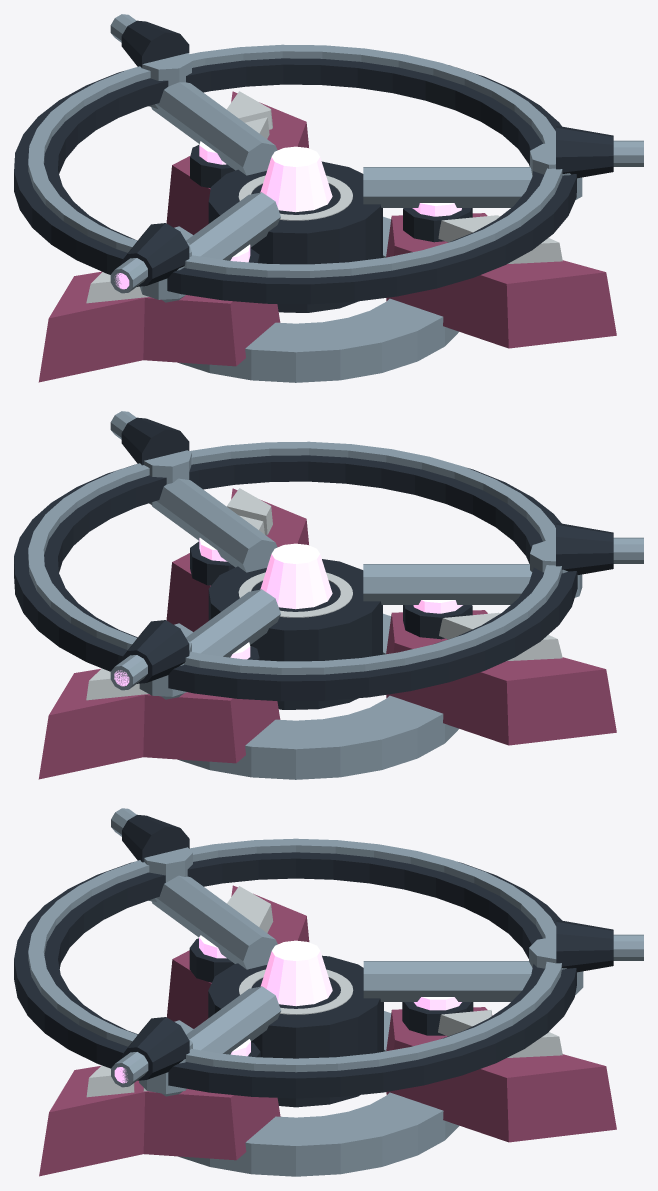
File: c2_spiral.glb
3 views of the same model, one above another, from view 1: azimuth 30°, elevation 25°; view 2: azimuth 150°, elevation 25°; view 3: azimuth 270°, elevation 25° (orthographic).
Parts seen in each view (by area): view 1: radial_rotor / Chassis, radial_rotor / Titanium, c2_spiral / Armor, c2_spiral / Titanium, c2_spiral / Chassis, c2_spiral / Identification, c2_spiral / Energy; view 2: radial_rotor / Chassis, radial_rotor / Titanium, c2_spiral / Armor, c2_spiral / Titanium, c2_spiral / Chassis, c2_spiral / Identification, c2_spiral / Energy; view 3: radial_rotor / Chassis, radial_rotor / Titanium, c2_spiral / Armor, c2_spiral / Titanium, c2_spiral / Chassis, c2_spiral / Identification, c2_spiral / Energy.
Part boxes in pixels (x1,y1,x2,y2): radial_rotor / Chassis: (14,20,613,304); radial_rotor / Titanium: (28,14,643,302); c2_spiral / Armor: (38,91,616,382); c2_spiral / Titanium: (174,216,458,382); c2_spiral / Chassis: (190,144,472,312); c2_spiral / Identification: (86,91,562,303); c2_spiral / Energy: (199,141,461,262); radial_rotor / Chassis: (14,417,613,701); radial_rotor / Titanium: (28,411,643,699); c2_spiral / Armor: (38,488,616,779); c2_spiral / Titanium: (174,613,458,779); c2_spiral / Chassis: (190,541,472,709); c2_spiral / Identification: (86,488,562,700); c2_spiral / Energy: (199,538,462,659); radial_rotor / Chassis: (14,814,613,1098); radial_rotor / Titanium: (28,808,643,1096); c2_spiral / Armor: (39,885,616,1176); c2_spiral / Titanium: (174,1011,459,1176); c2_spiral / Chassis: (189,938,473,1107); c2_spiral / Identification: (86,886,562,1097); c2_spiral / Energy: (199,935,461,1056).
Size of the model in its own units: 1.9 by 0.595 by 1.86.
